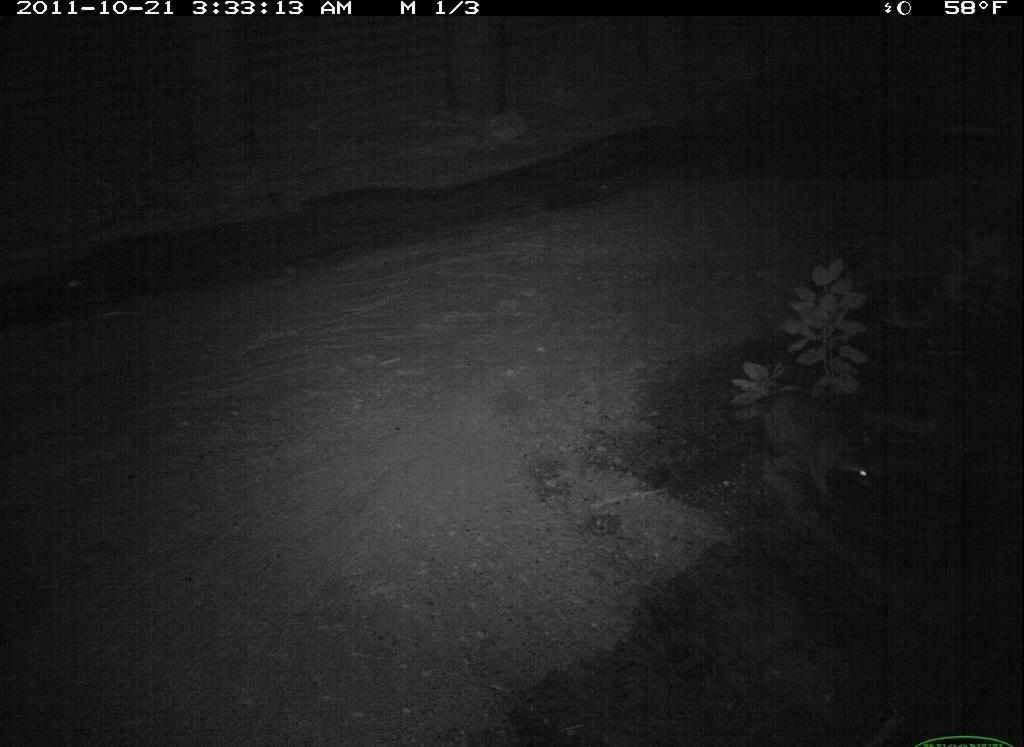raccoon: (739, 378, 882, 524)
